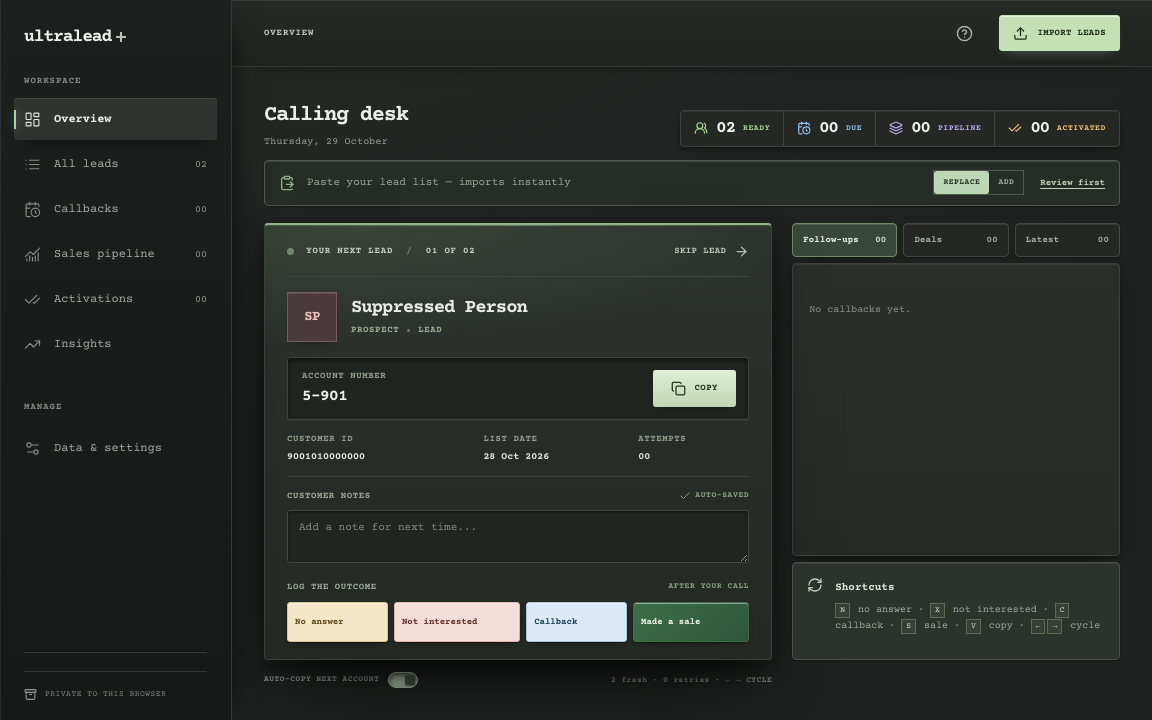
Test: calling workflow › does not keep a manually selected customer on screen if another tab suppresses them
Click the button "All leads 02": click(116, 164) [14,143,217,185]
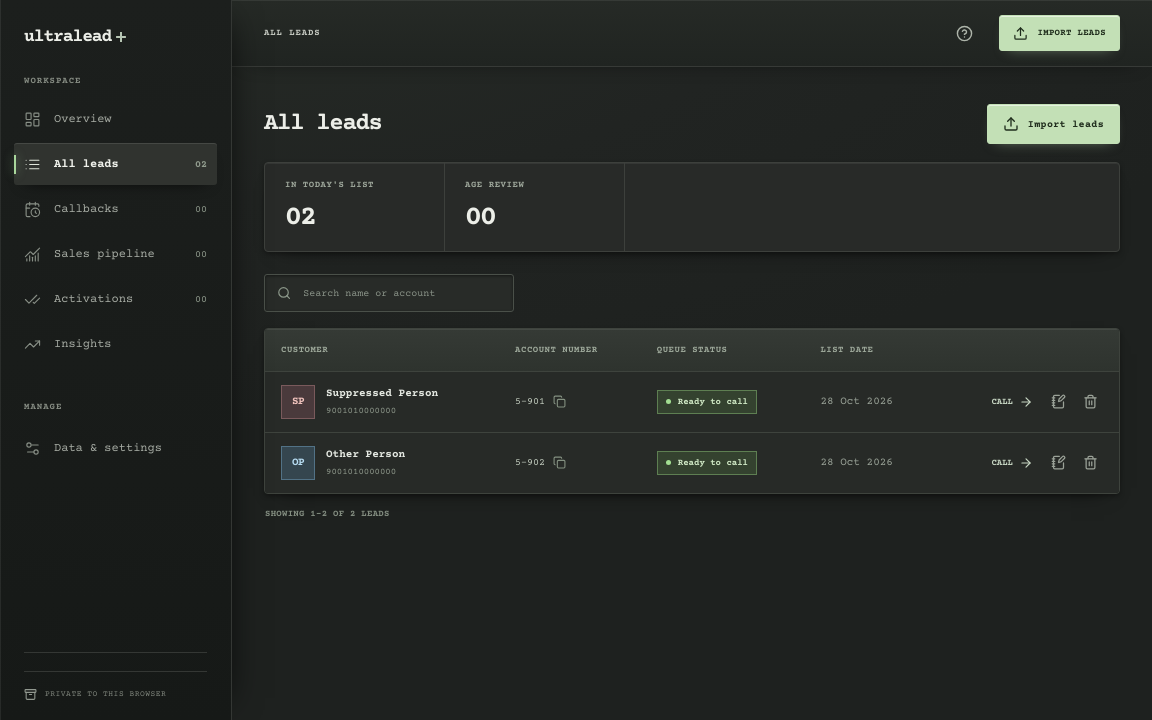
Click the button "CALL" in the row of "Suppressed Person": click(1012, 402) [985,388,1039,414]
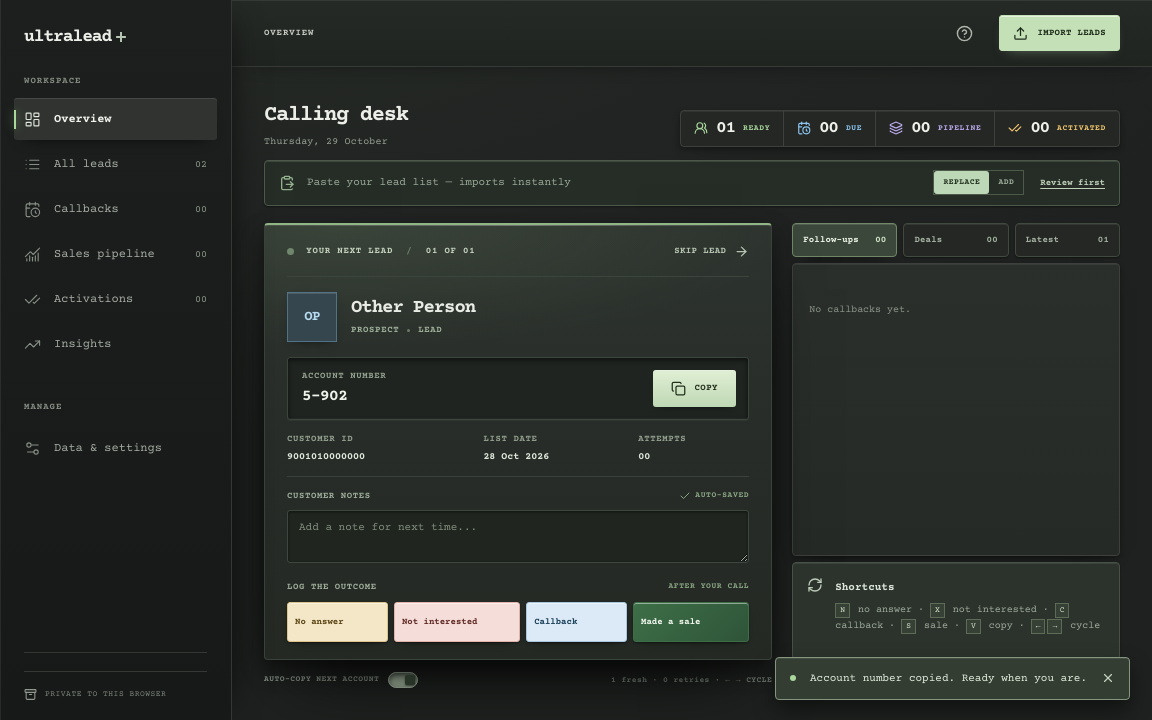
Result: the heading "Other Person" is shown at [351,298,475,318]
Result: the text "Suppressed Person" is gone
